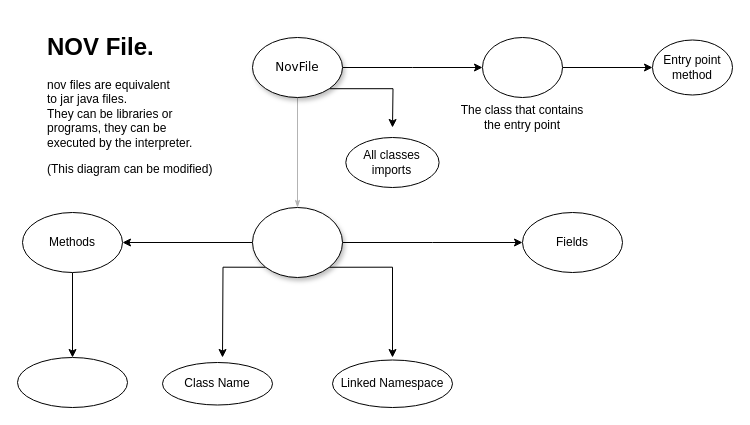
Some shapes in this 750 by 425 pixel diagram are drawn without their labels. Each missing label, with the centre of its shape:
Classes: (298,243)
MainClass: (522,67)
Statements: (72,382)
